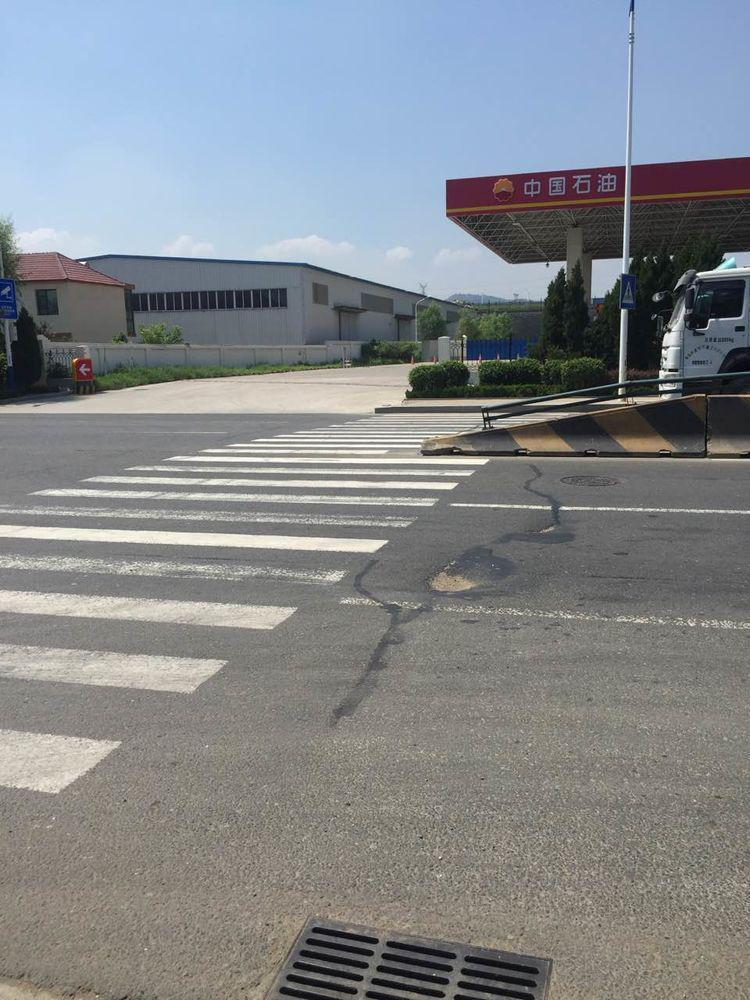car: (658, 255, 750, 393)
pothole: (427, 545, 513, 593)
